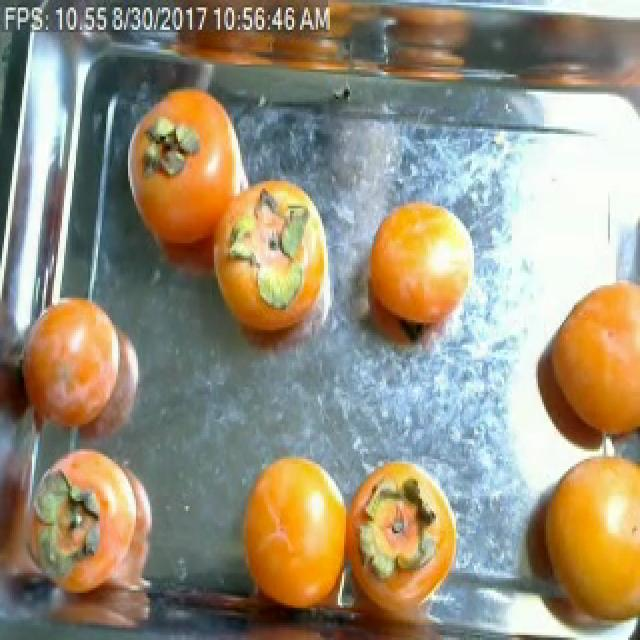Fruit: (8, 278, 158, 461), (508, 432, 640, 632), (522, 255, 640, 474), (226, 439, 362, 625), (354, 184, 494, 362), (116, 67, 244, 236), (346, 444, 476, 610)
